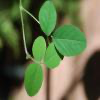Soyabean leaf: (52, 24, 88, 58), (43, 40, 69, 70), (24, 62, 44, 99), (39, 0, 58, 36), (32, 34, 47, 63)
